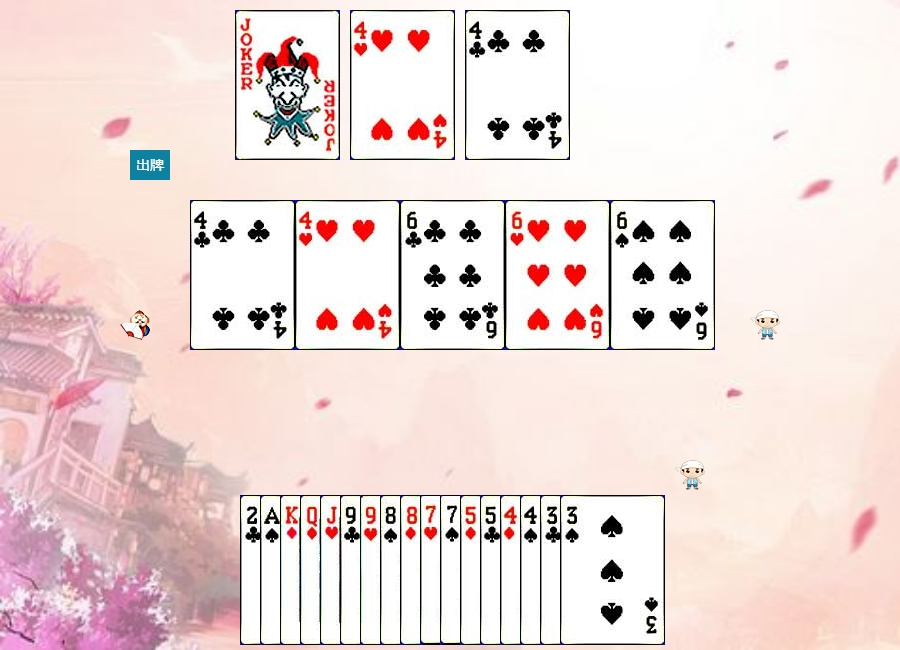11~3: (320, 495, 425, 645)
12~1: (300, 495, 405, 645)
13~1: (280, 495, 385, 645)
14~4: (260, 495, 365, 645)
15~2: (240, 495, 345, 645)
18~4: (235, 10, 340, 160)
3~2: (540, 495, 645, 645)
3~4: (560, 495, 665, 645)
4~1: (500, 495, 605, 645)
4~2: (465, 10, 570, 160), (190, 200, 295, 350)
4~3: (350, 10, 455, 160), (295, 200, 400, 350)
4~4: (520, 495, 625, 645)
5~1: (460, 495, 565, 645)
5~2: (480, 495, 585, 645)
6~2: (400, 200, 505, 350)
6~3: (505, 200, 610, 350)
6~4: (610, 200, 715, 350)
7~3: (420, 495, 525, 645)
7~4: (440, 495, 545, 645)
8~1: (400, 495, 505, 645)
8~4: (380, 495, 485, 645)
9~2: (340, 495, 445, 645)
9~3: (360, 495, 465, 645)
